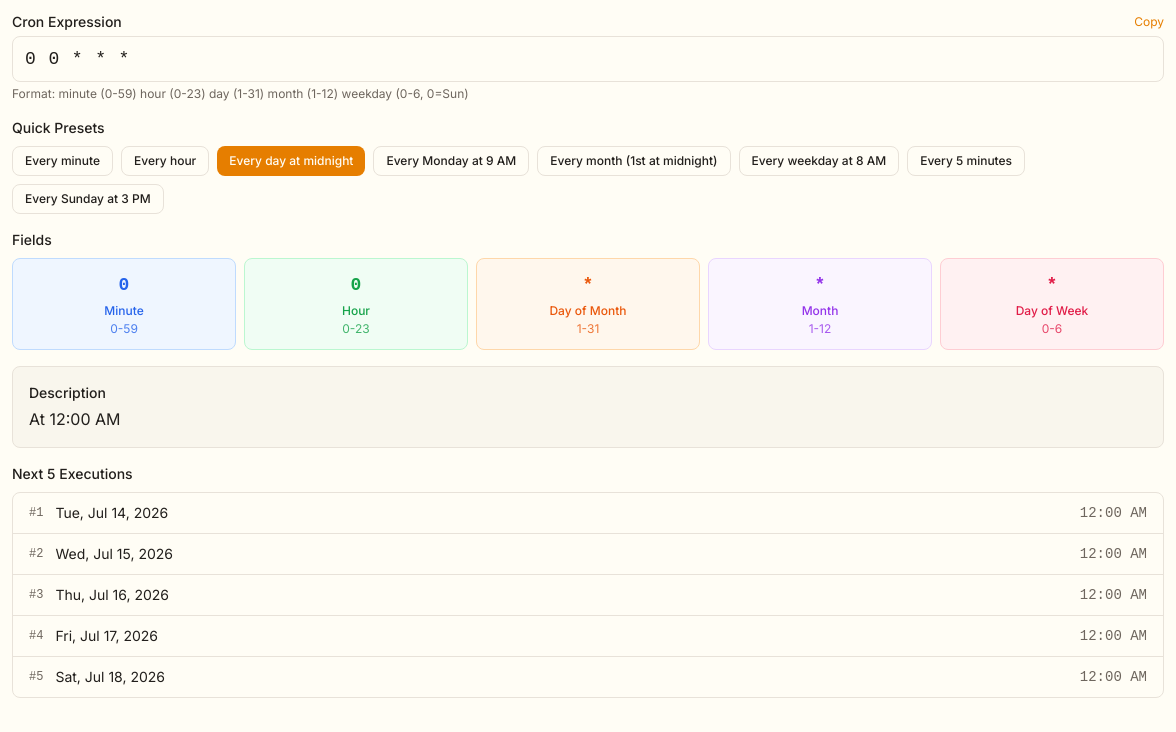
CronParser › applies preset when clicked
Click the button with aria-label "Set cron to: Every 5 minutes": [966, 161] box x1=907 y1=146 x2=1025 y2=176
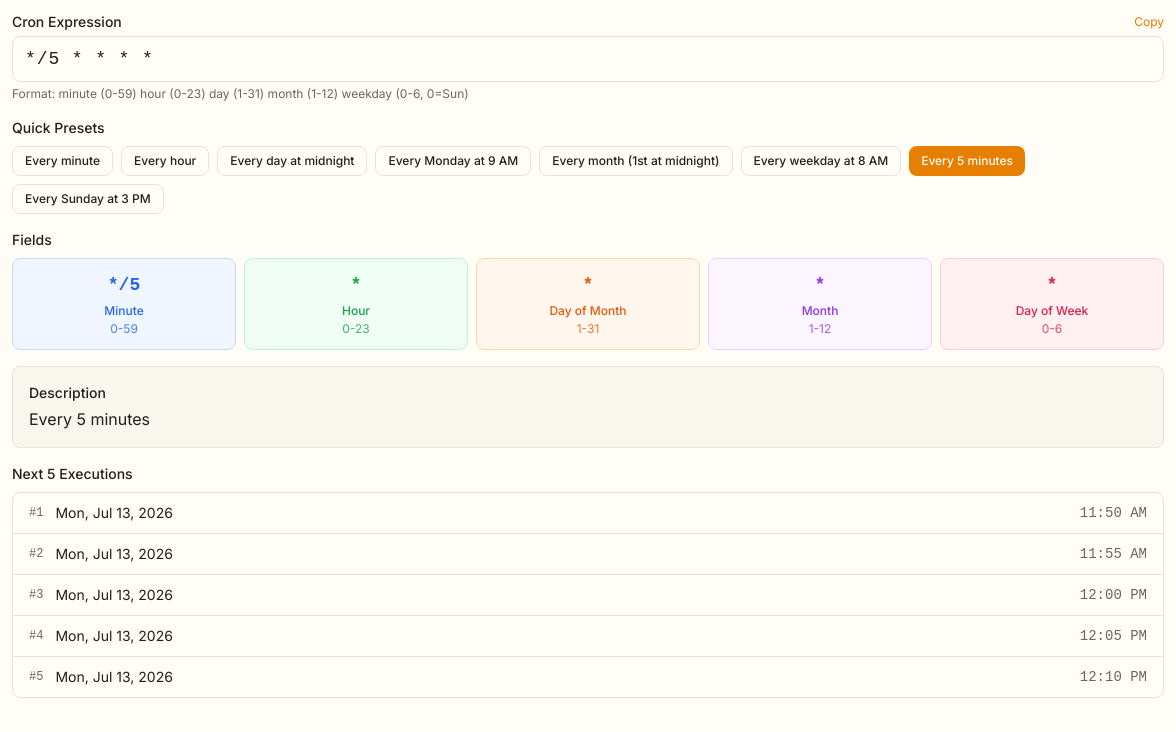
Check: the field named "Cron expression input" holds "*/5 * * * *", box x1=12 y1=36 x2=1164 y2=82
